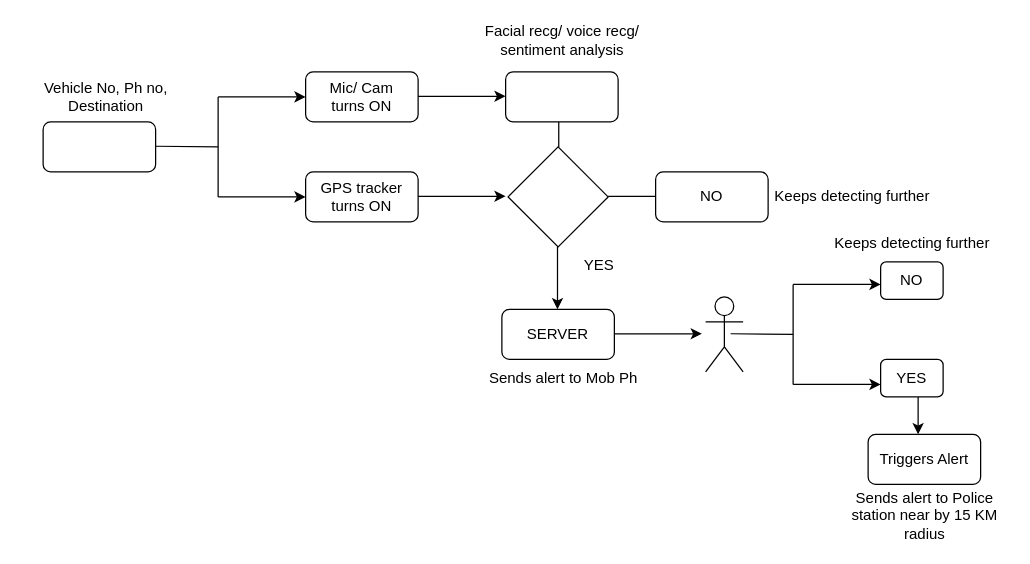
Image size: 1030x564. Some labels were removed from this diagram. The shapes that lost their labels are listed below. From the top down, each one's box as (x1, y1, x2, y2) in pixels, then its label:
(504, 71, 618, 122): AI starts detecting Anomalies
(42, 121, 156, 172): Get details START
(507, 146, 608, 247): Anomaly
(704, 296, 743, 372): conformation alert
